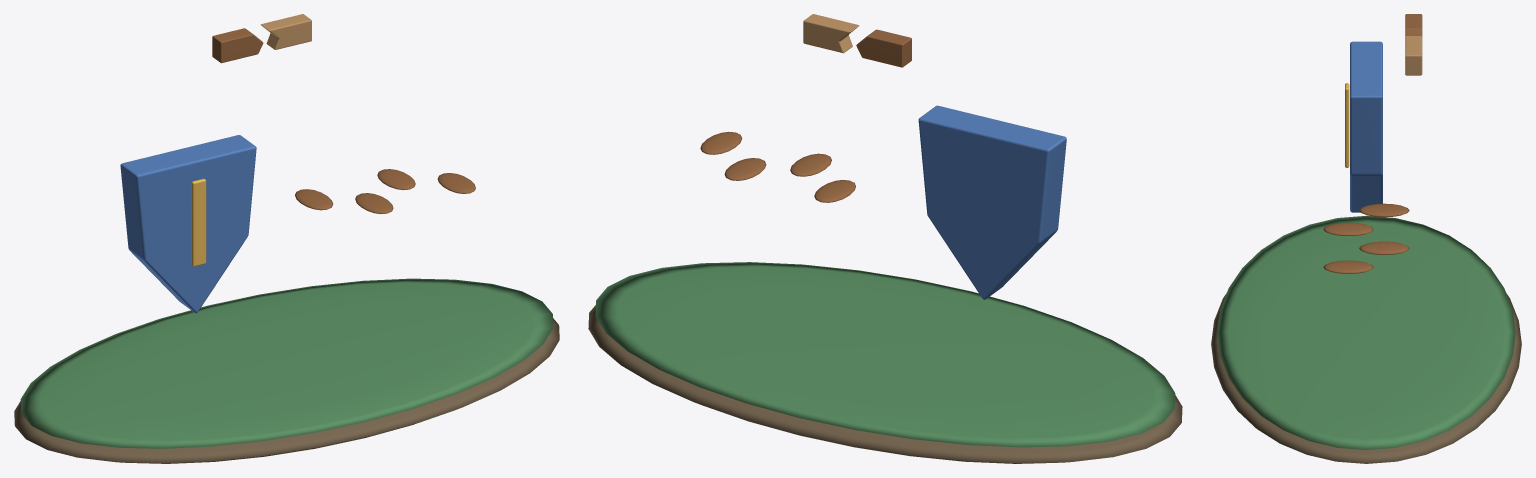
File: complete-third-brave-daring-step.glb
3 renders of one model, left to right at view 1: azimuth 30°, elevation 25°; view 2: azimuth 150°, elevation 25°; view 3: azimuth 270°, elevation 25°, orthographic. The views are drawn at different scales.
Parts seen in each view (by area): view 1: complete-third-brave-daring-step_surface_01, complete-third-brave-daring-step_surface_02, complete-third-brave-daring-step_surface_00, complete-third-brave-daring-step_surface_04, complete-third-brave-daring-step_surface_03, complete-third-brave-daring-step_surface_05; view 2: complete-third-brave-daring-step_surface_01, complete-third-brave-daring-step_surface_02, complete-third-brave-daring-step_surface_00, complete-third-brave-daring-step_surface_04, complete-third-brave-daring-step_surface_05; view 3: complete-third-brave-daring-step_surface_01, complete-third-brave-daring-step_surface_00, complete-third-brave-daring-step_surface_02, complete-third-brave-daring-step_surface_04, complete-third-brave-daring-step_surface_05, complete-third-brave-daring-step_surface_03.
Part boxes in pixels (x1,y1,x2,y2): complete-third-brave-daring-step_surface_01: (20,278,553,448); complete-third-brave-daring-step_surface_02: (120,135,256,313); complete-third-brave-daring-step_surface_00: (14,318,559,463); complete-third-brave-daring-step_surface_04: (212,28,475,213); complete-third-brave-daring-step_surface_03: (191,178,206,266); complete-third-brave-daring-step_surface_05: (260,14,311,49); complete-third-brave-daring-step_surface_01: (595,262,1175,447); complete-third-brave-daring-step_surface_02: (918,105,1066,299); complete-third-brave-daring-step_surface_00: (588,305,1182,463); complete-third-brave-daring-step_surface_04: (700,29,911,202); complete-third-brave-daring-step_surface_05: (803,14,859,53); complete-third-brave-daring-step_surface_01: (1217,215,1515,449); complete-third-brave-daring-step_surface_00: (1211,293,1521,463); complete-third-brave-daring-step_surface_02: (1350,41,1382,212); complete-third-brave-daring-step_surface_04: (1323,14,1422,273); complete-third-brave-daring-step_surface_05: (1405,36,1422,75); complete-third-brave-daring-step_surface_03: (1345,83,1349,167).
Size of the model in its own units: 4.56 by 2.88 by 2.5.
